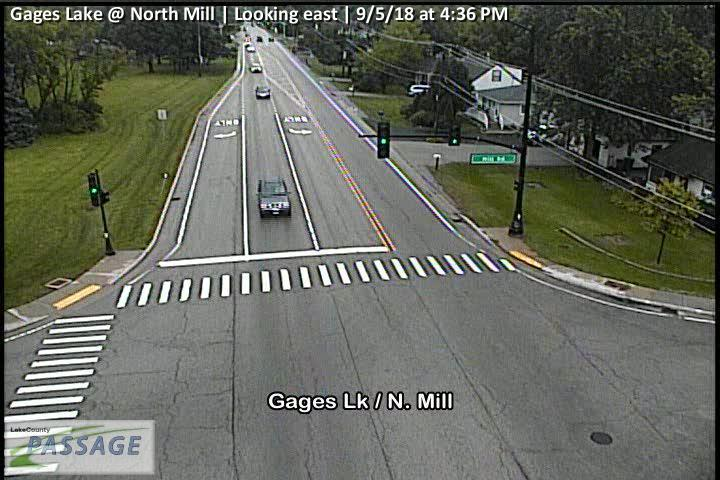SUV: (258, 176, 291, 217)
Sedan: (256, 86, 270, 98), (249, 62, 263, 72), (247, 43, 255, 51)
